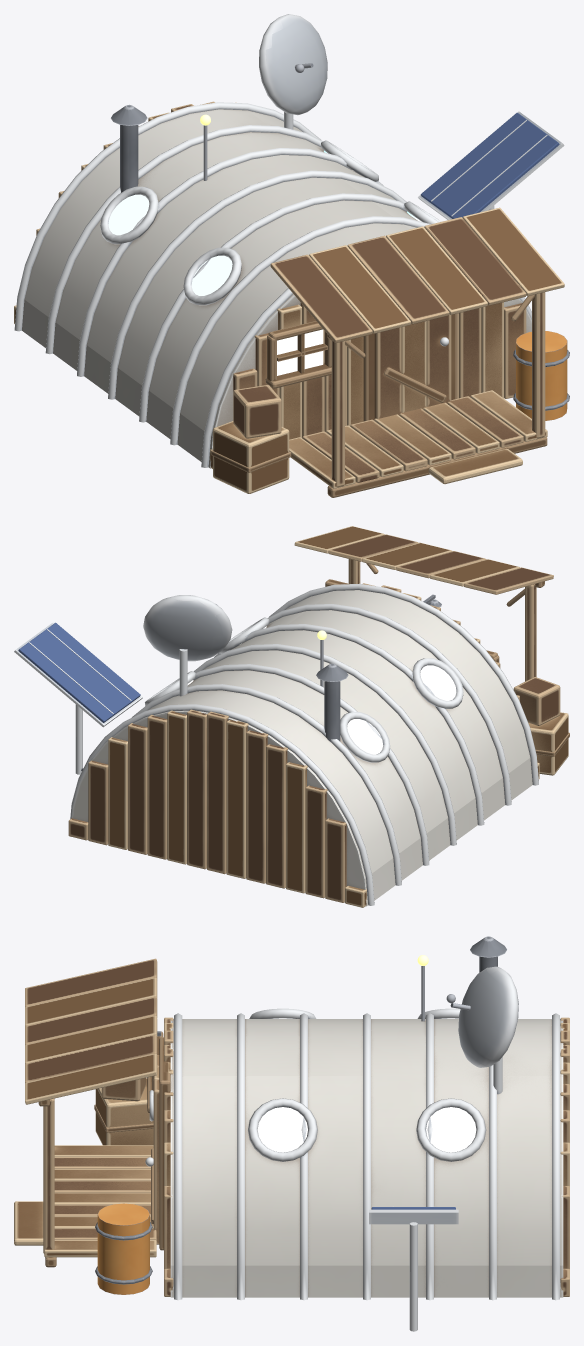
File: hut_painted.glb
3 renders of one model, top to bottom at view 1: azimuth 30°, elevation 25°; view 2: azimuth 150°, elevation 25°; view 3: azimuth 270°, elevation 25°, orthographic. The views are drawn at different scales.
Parts seen in each view (by area): view 1: Hut; view 2: Hut; view 3: Hut.
Part boxes in pixels (left/top/right/bottom): Hut: left=14, top=14, right=569, bottom=497; Hut: left=14, top=526, right=569, bottom=907; Hut: left=14, top=936, right=569, bottom=1331.
Size of the model in its own units: 5.77 by 3.27 by 5.94.
Materials: 12 (7 with a texture image).
